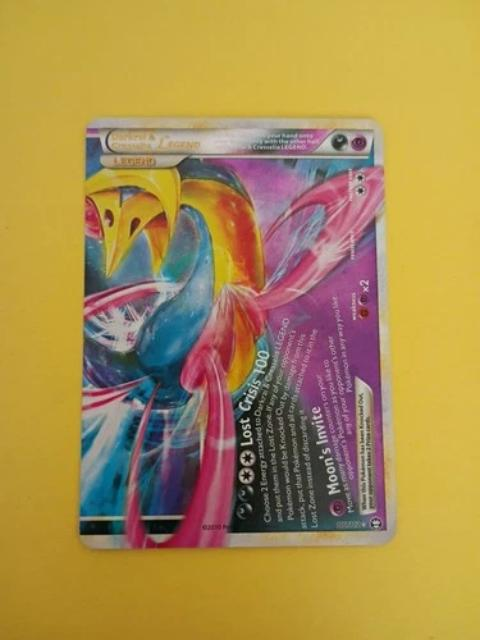Card: (73, 113, 404, 556)
Name: (106, 126, 205, 155)
